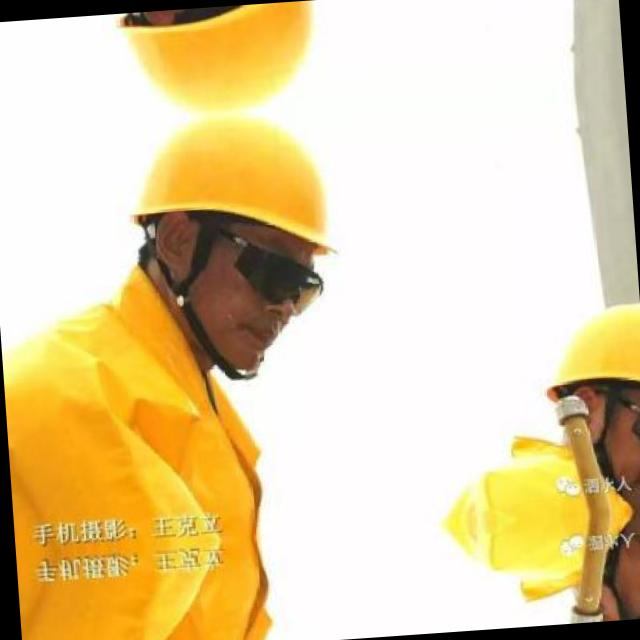helmet: (100, 105, 370, 393), (92, 0, 353, 120), (534, 295, 640, 500), (551, 523, 640, 622)
